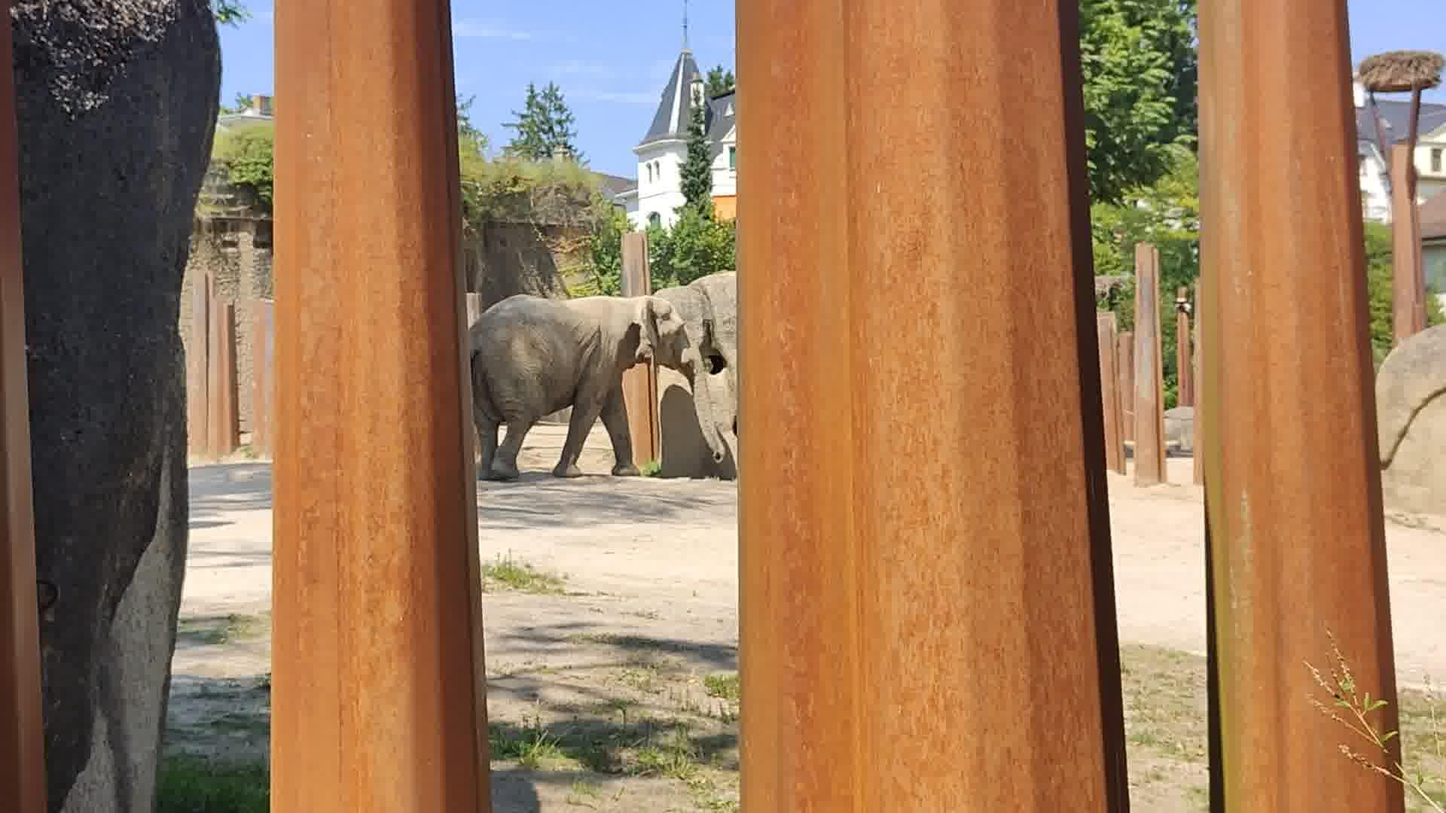raccoon: (469, 294, 725, 482)
